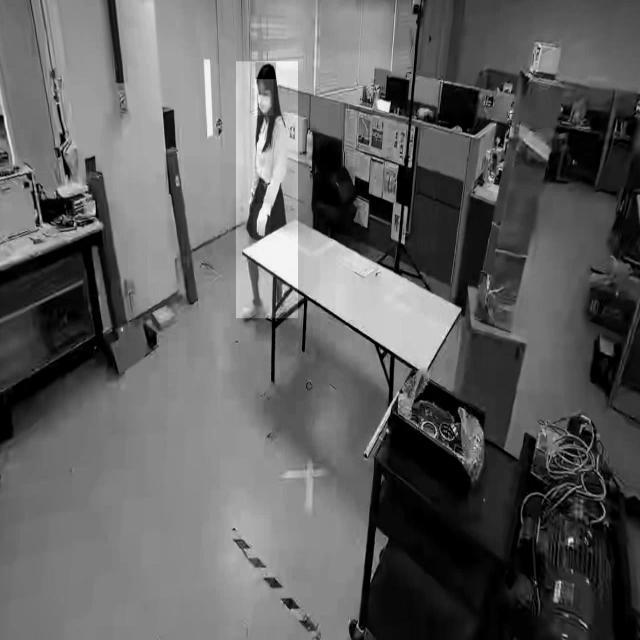face_mask: (254, 79, 274, 116)
hand_glove: (253, 204, 271, 242)
head_nohelmet: (256, 62, 276, 80)
person: (236, 61, 298, 319)
